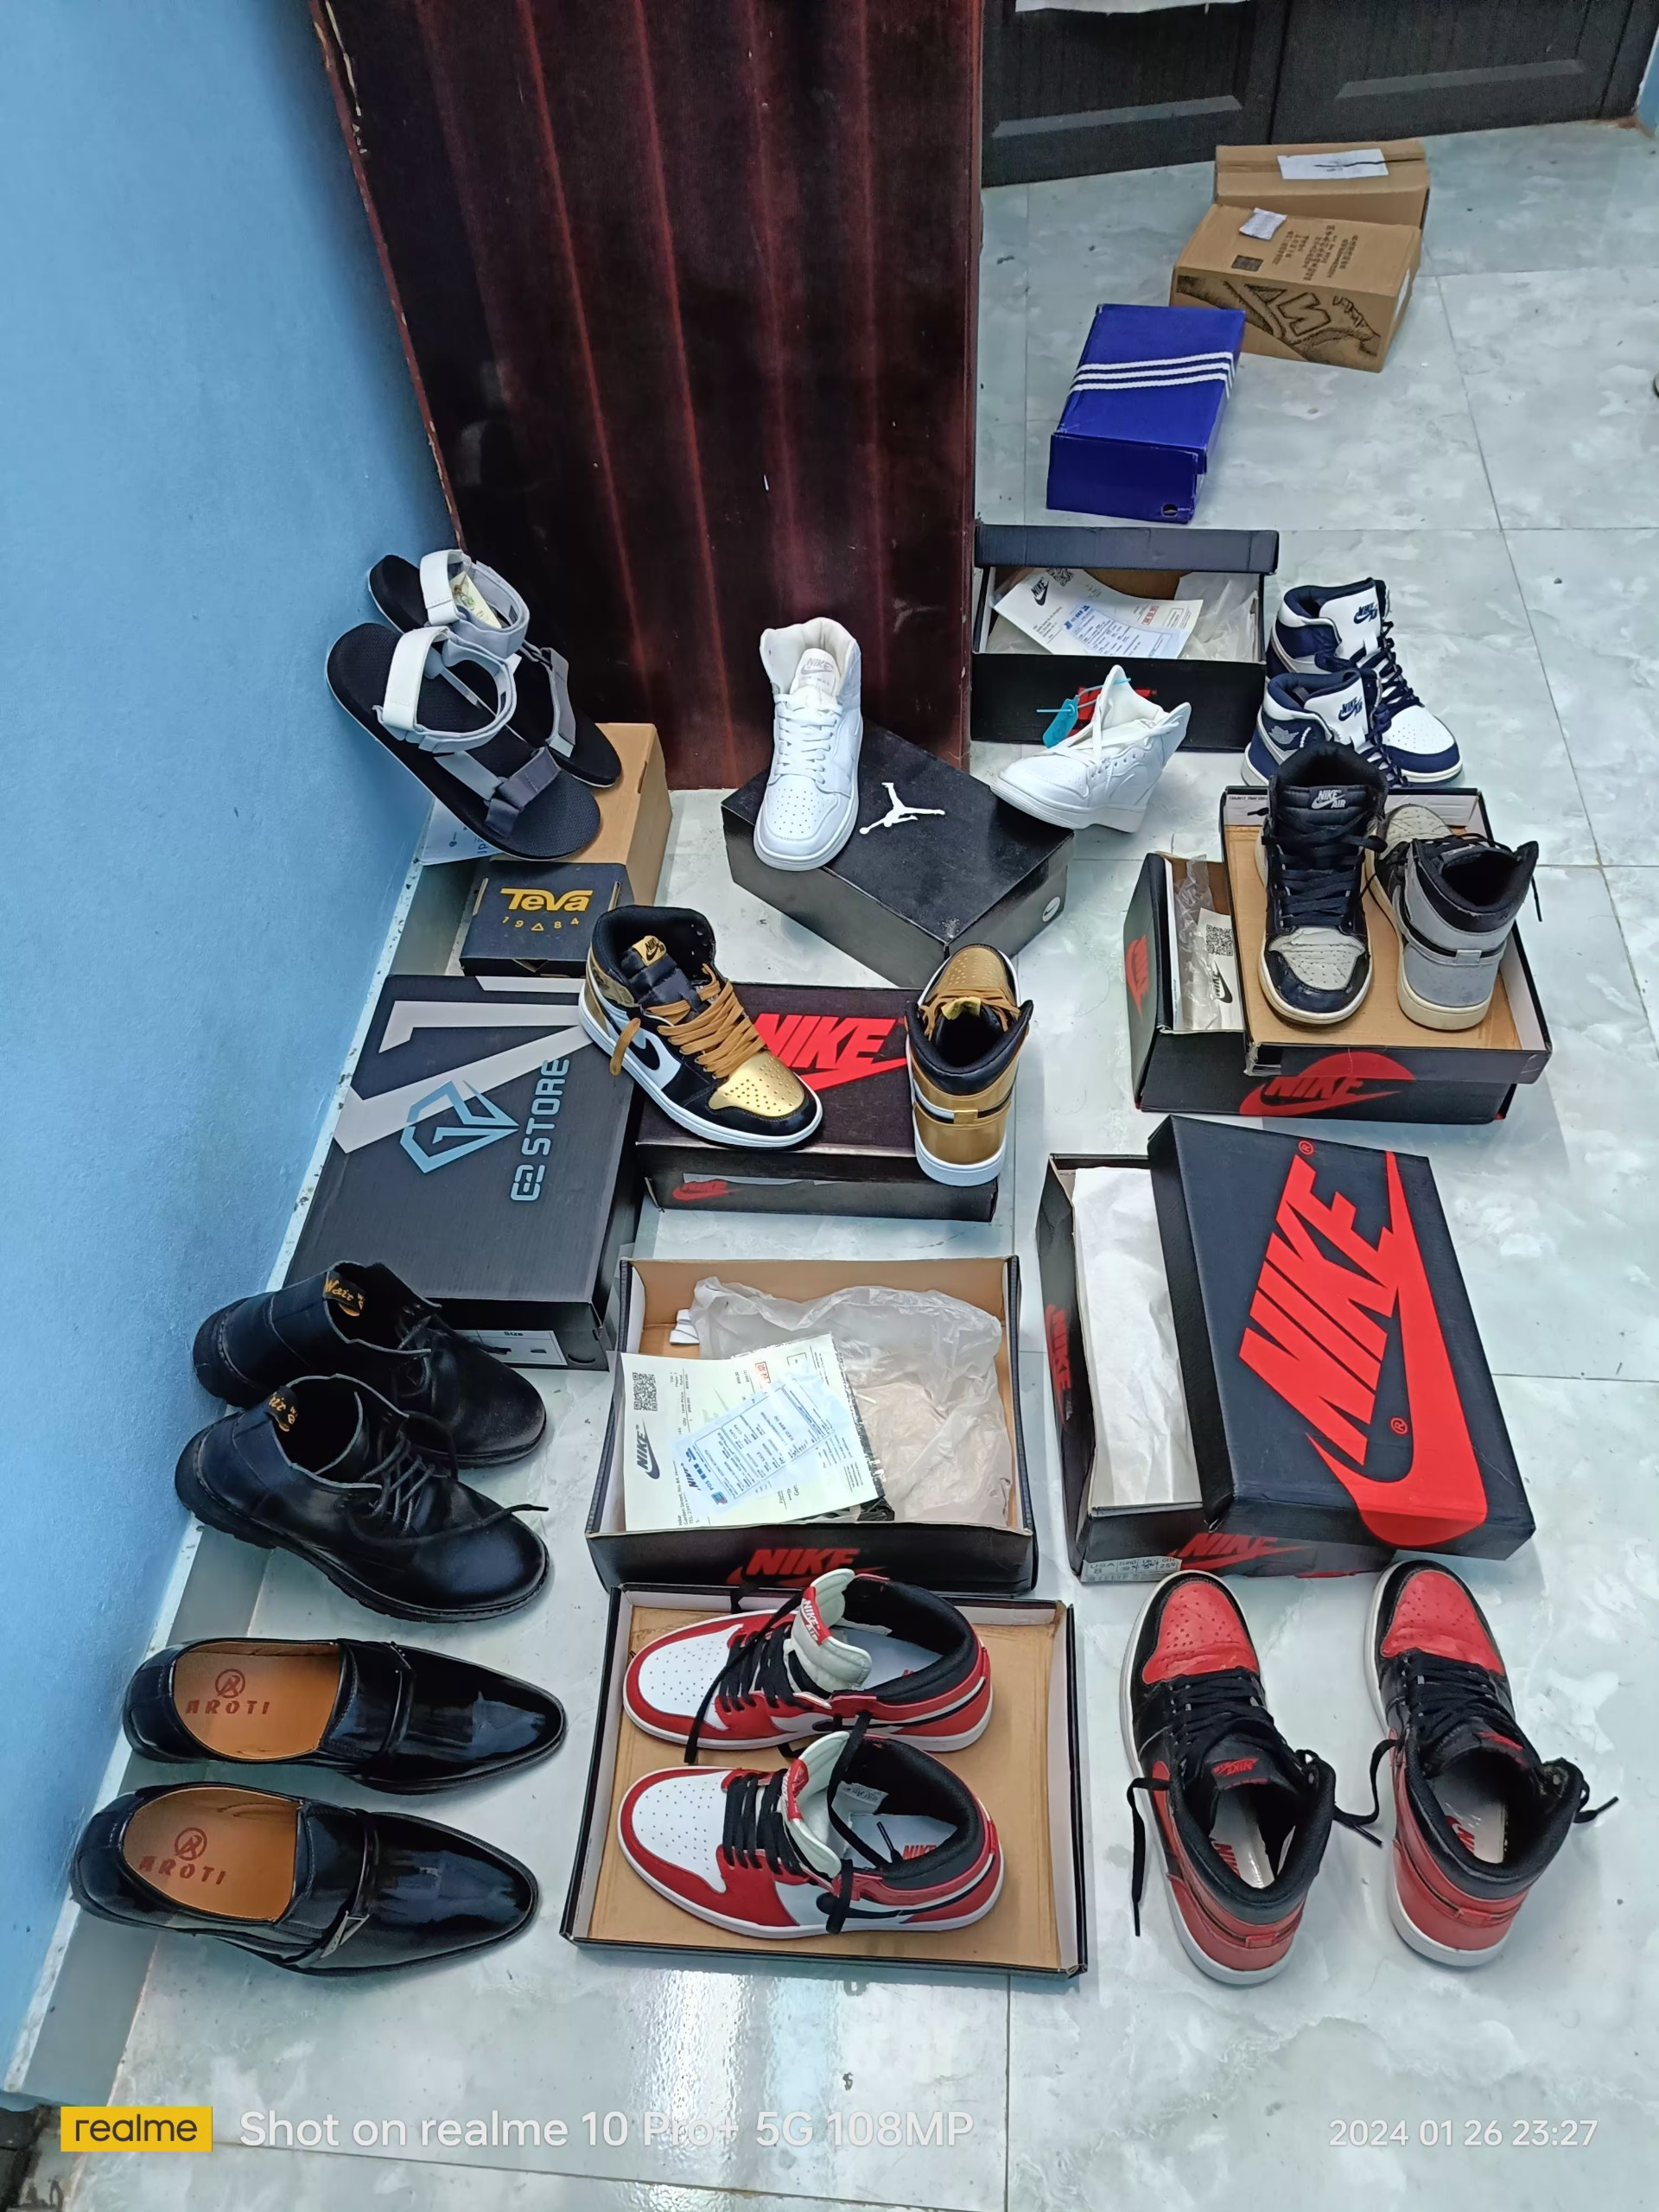boots: (176, 1372, 551, 1611), (193, 1259, 554, 1467)
loafers: (73, 1782, 544, 1972), (120, 1634, 566, 1792)
sandals: (326, 620, 605, 862), (364, 545, 622, 794)
sneakers: (1359, 1555, 1579, 1970), (1126, 1578, 1335, 1989), (572, 906, 826, 1155), (1262, 578, 1464, 782), (1368, 803, 1542, 1031), (1248, 747, 1384, 1026), (992, 667, 1197, 836), (904, 937, 1032, 1193), (751, 608, 866, 869)
